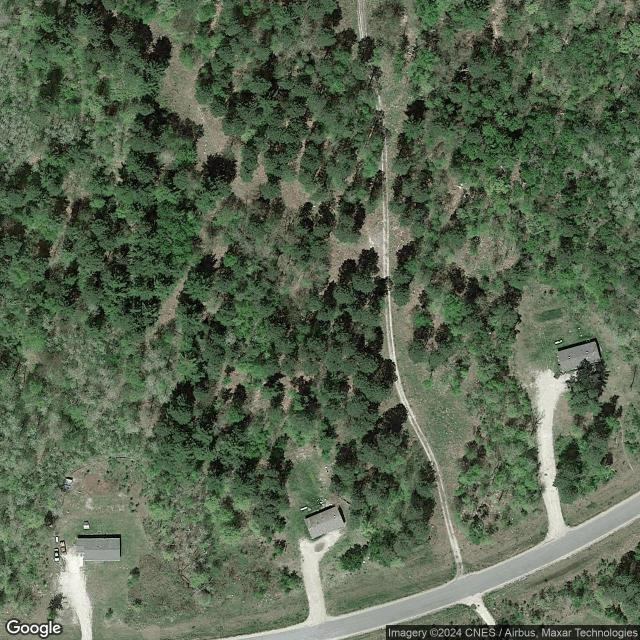Propane: (554, 337, 564, 346), (299, 505, 310, 511), (55, 535, 59, 544)
